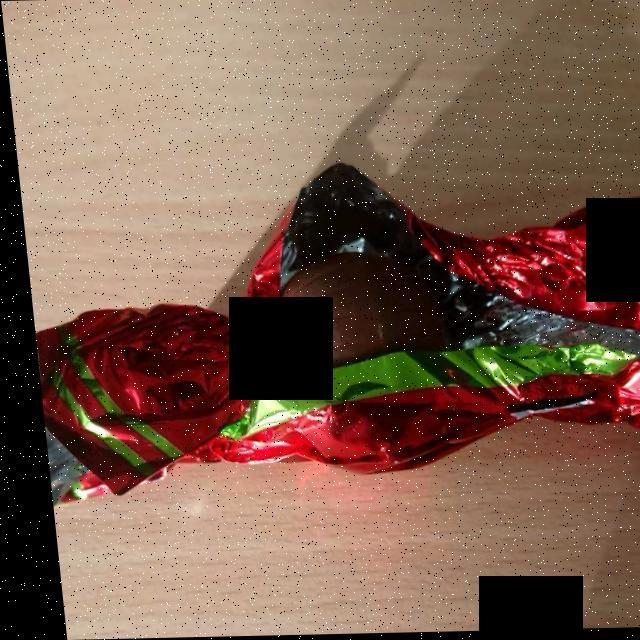chocolate: (245, 264, 470, 372)
